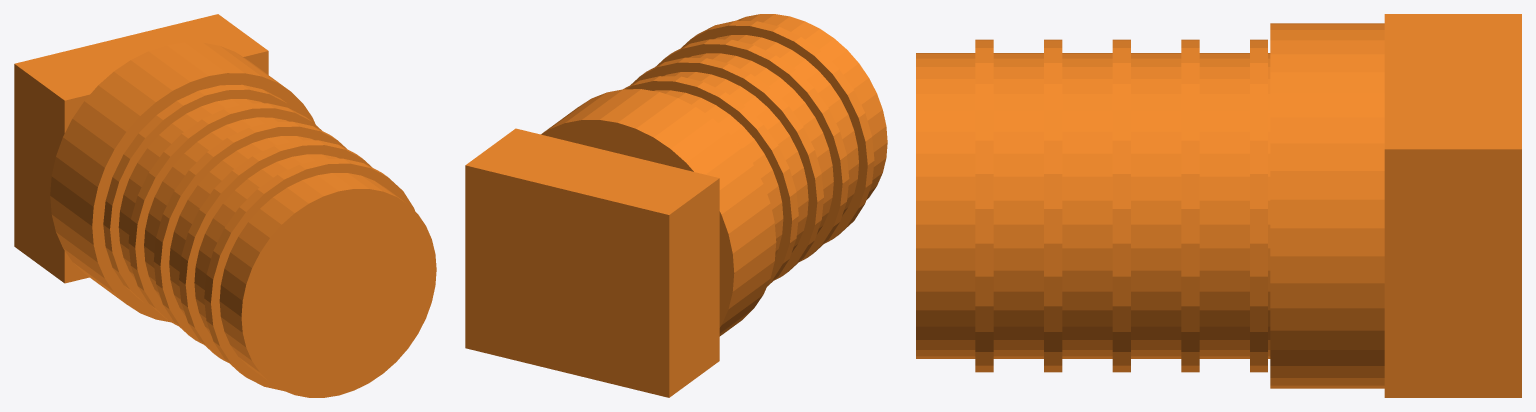
The model's file is 10_rear_motor_gearbox.glb.
3 views of the same model, side by side, from view 1: azimuth 30°, elevation 25°; view 2: azimuth 150°, elevation 25°; view 3: azimuth 270°, elevation 25° (orthographic). The views are drawn at different scales.
Parts seen in each view (by area): view 1: Rear motor and gearbox; view 2: Rear motor and gearbox; view 3: Rear motor and gearbox.
Boxes of the visible parts, bbox=[...] form: Rear motor and gearbox: bbox=[14, 14, 436, 397]; Rear motor and gearbox: bbox=[465, 14, 887, 397]; Rear motor and gearbox: bbox=[916, 14, 1521, 397].
Bounding box in the file's own units: 0.016 × 0.016 × 0.0265.
